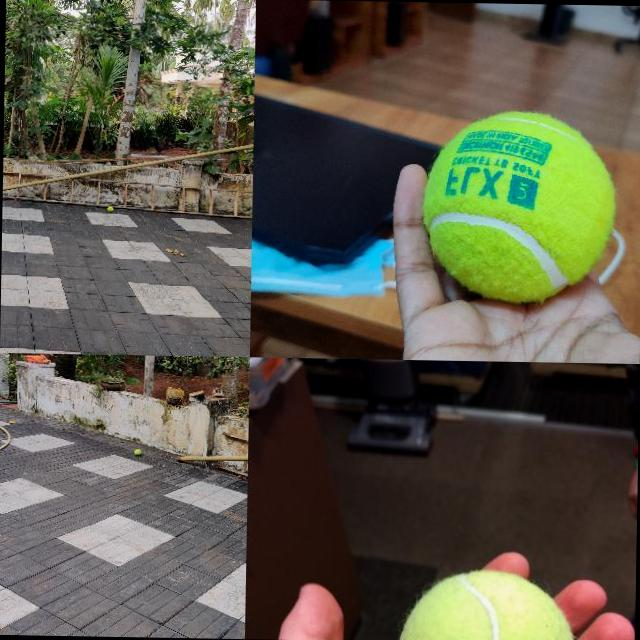Tennis Ball: (422, 109, 616, 302), (396, 567, 576, 640), (134, 449, 140, 456), (107, 206, 113, 212)
